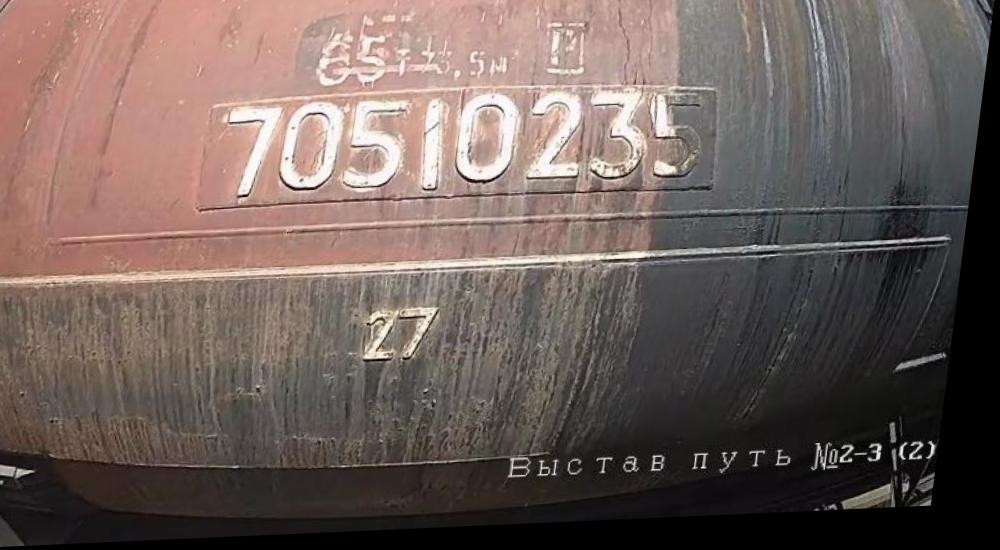Wagon-number: (208, 88, 719, 212)
